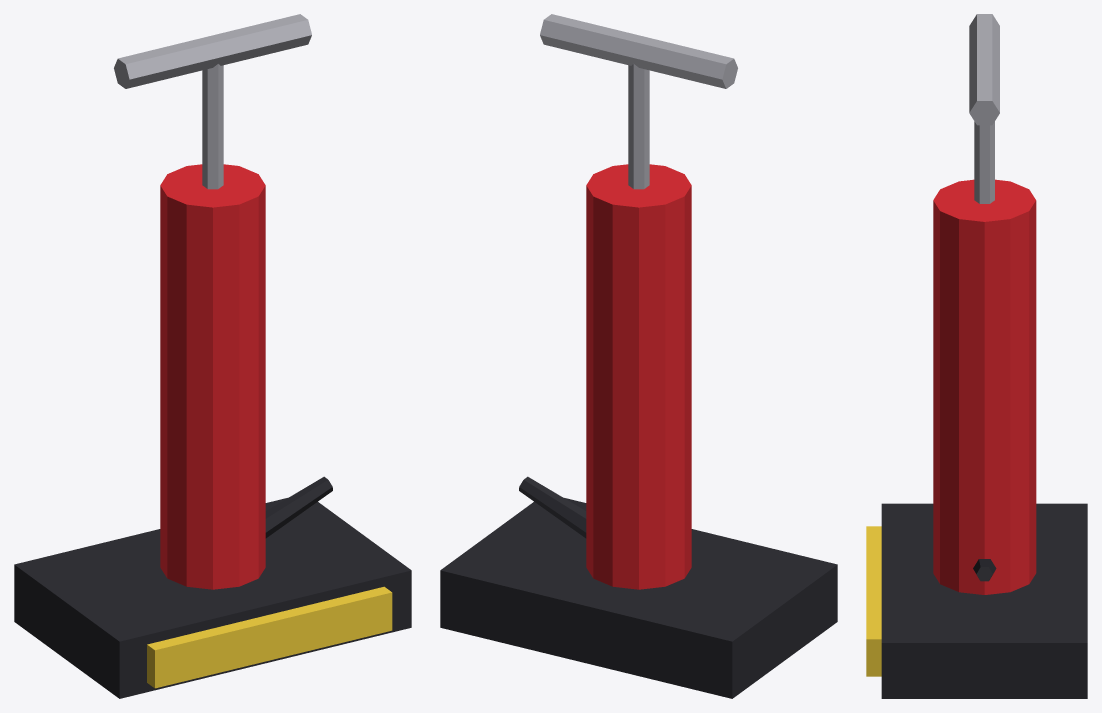
The model's file is trick_pump.glb.
The picture shows the model from 3 angles, left to right: view 1: azimuth 30°, elevation 25°; view 2: azimuth 150°, elevation 25°; view 3: azimuth 270°, elevation 25°; orthographic projection. The views are drawn at different scales.
Parts seen in each view (by area): view 1: barrel_pump_red, base_pump_base, drawer_pump_drawer, handle_pump_metal, rod_pump_metal, nozzle_pump_nozzle; view 2: base_pump_base, barrel_pump_red, handle_pump_metal, rod_pump_metal, nozzle_pump_nozzle; view 3: barrel_pump_red, base_pump_base, handle_pump_metal, drawer_pump_drawer, rod_pump_metal, nozzle_pump_nozzle.
Boxes of the visible parts, <box> form: barrel_pump_red: <box>160,164,265,589</box>; base_pump_base: <box>14,498,411,698</box>; drawer_pump_drawer: <box>147,586,392,688</box>; handle_pump_metal: <box>114,14,311,88</box>; rod_pump_metal: <box>202,64,223,189</box>; nozzle_pump_nozzle: <box>265,476,332,538</box>; base_pump_base: <box>440,498,837,698</box>; barrel_pump_red: <box>586,164,691,589</box>; handle_pump_metal: <box>540,14,737,88</box>; rod_pump_metal: <box>628,64,649,189</box>; nozzle_pump_nozzle: <box>519,476,586,538</box>; barrel_pump_red: <box>933,179,1036,594</box>; base_pump_base: <box>881,503,1087,698</box>; handle_pump_metal: <box>969,14,999,125</box>; drawer_pump_drawer: <box>866,526,881,676</box>; rod_pump_metal: <box>974,121,994,203</box>; nozzle_pump_nozzle: <box>973,559,996,581</box>.
Bounding box in the file's own units: 0.32 × 0.613 × 0.215.
